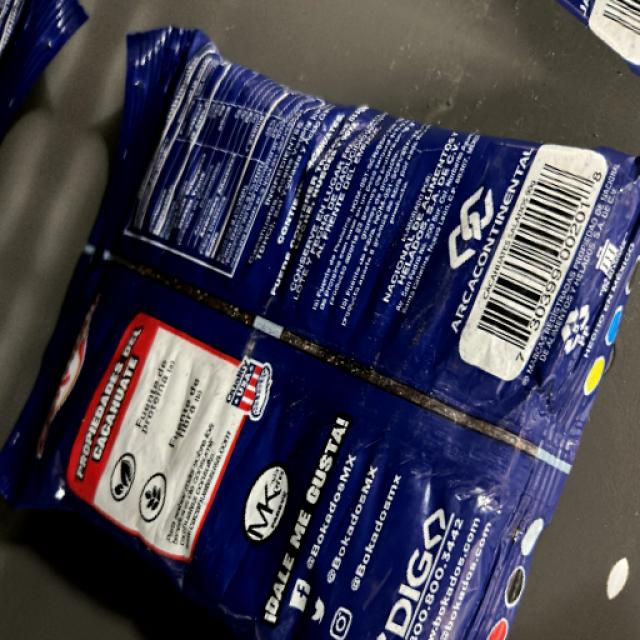productoAtras: (96, 108, 538, 626)
